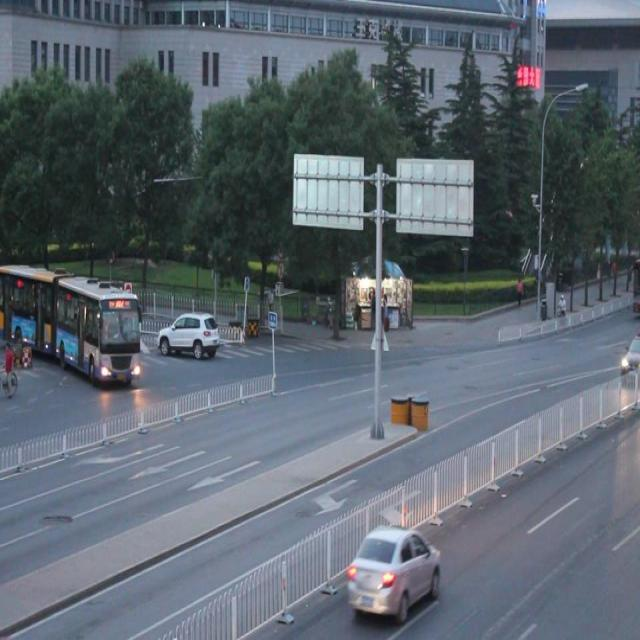car: (349, 522, 439, 616), (157, 309, 219, 364)
van: (1, 260, 142, 388)
